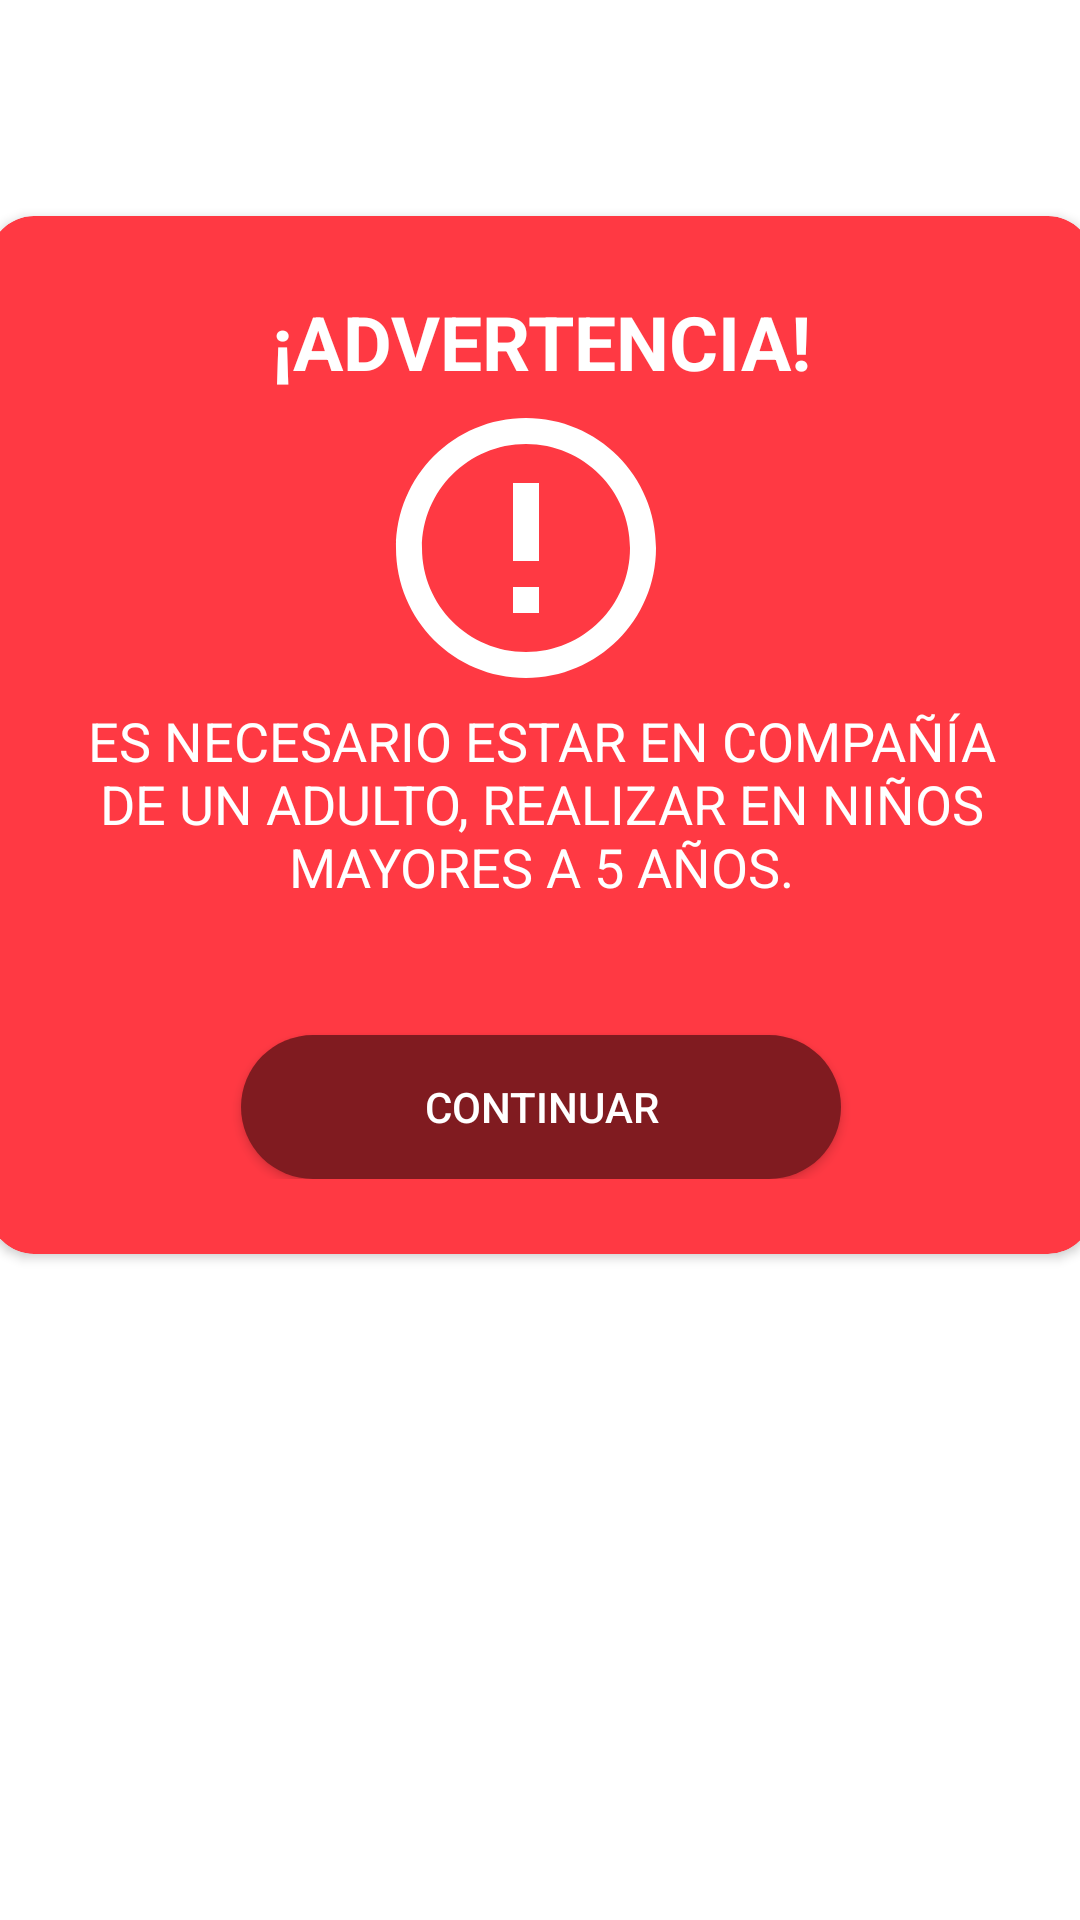

Named icons in this screenshot (1080x1920) and their centers, (x=x, y=y):
error: (x=526, y=548)
